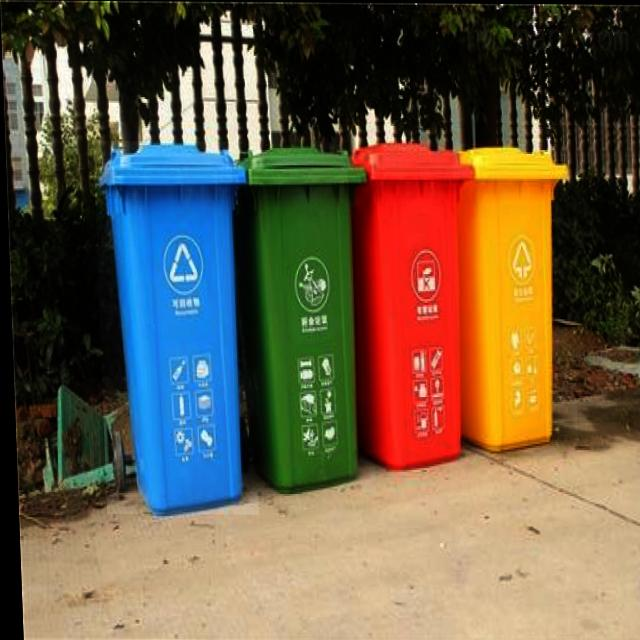garbage_bin: (92, 141, 255, 514), (230, 143, 373, 492), (345, 140, 481, 466), (451, 143, 575, 453)
